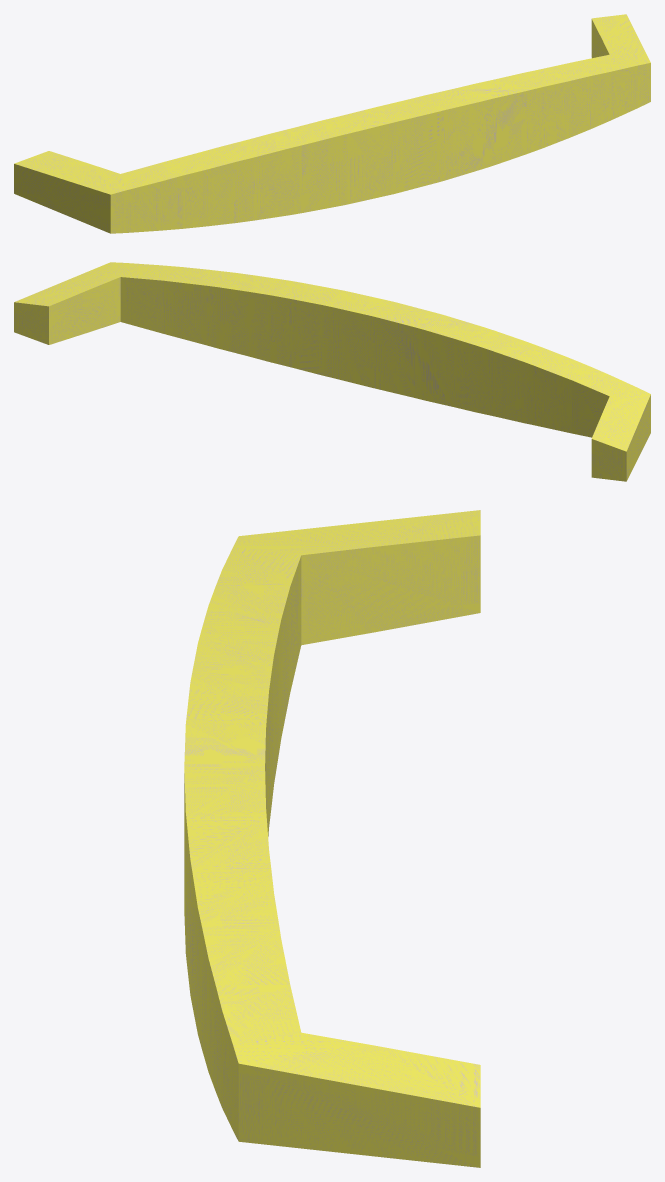
File: original-35.obj
The picture shows the model from 3 angles, top to bottom: view 1: azimuth 30°, elevation 25°; view 2: azimuth 150°, elevation 25°; view 3: azimuth 270°, elevation 25°; orthographic projection. The views are drawn at different scales.
Visible parts, largest first — view 1: Handle2/Handle/mesh34/mesh34-geometry#mesh34-geometry; view 2: Handle2/Handle/mesh34/mesh34-geometry#mesh34-geometry; view 3: Handle2/Handle/mesh34/mesh34-geometry#mesh34-geometry.
Boxes of the visible parts, x1,y1,x2,y2 form: Handle2/Handle/mesh34/mesh34-geometry#mesh34-geometry: (14, 14, 650, 233); Handle2/Handle/mesh34/mesh34-geometry#mesh34-geometry: (14, 262, 650, 481); Handle2/Handle/mesh34/mesh34-geometry#mesh34-geometry: (184, 510, 480, 1167).
Size of the model in its own units: 0.1103 by 0.0123 by 0.0231.
